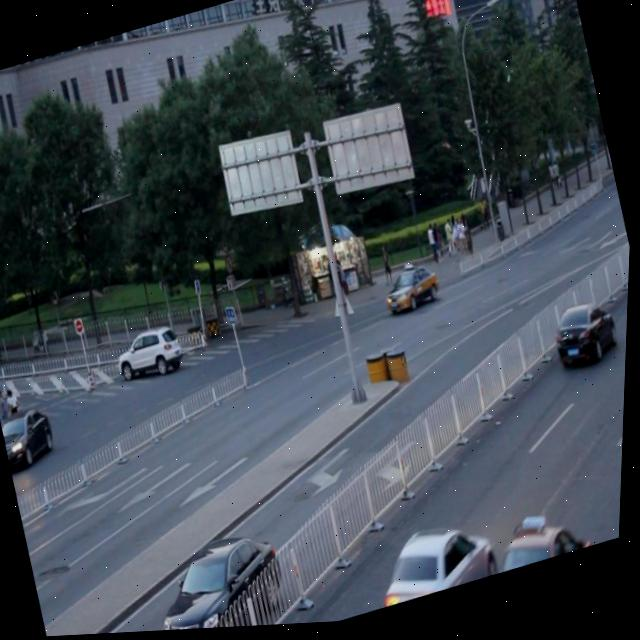car: (148, 526, 298, 633), (375, 508, 502, 611), (488, 507, 598, 580), (549, 302, 623, 375), (114, 323, 189, 388), (381, 260, 445, 325), (0, 402, 61, 467)
